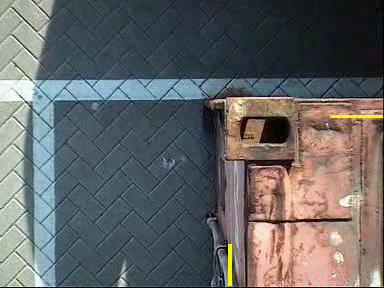groundmarker_2: (195, 223, 230, 282), (195, 50, 230, 108)
